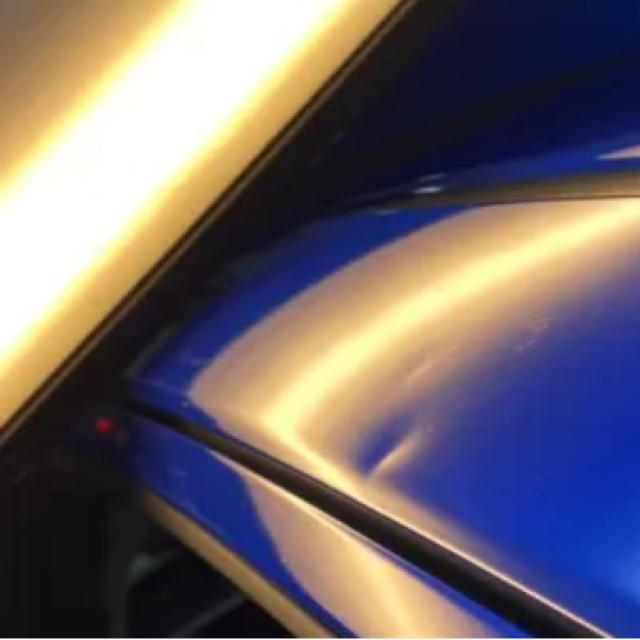dents: (338, 409, 486, 492), (490, 310, 595, 367), (381, 350, 483, 384)
